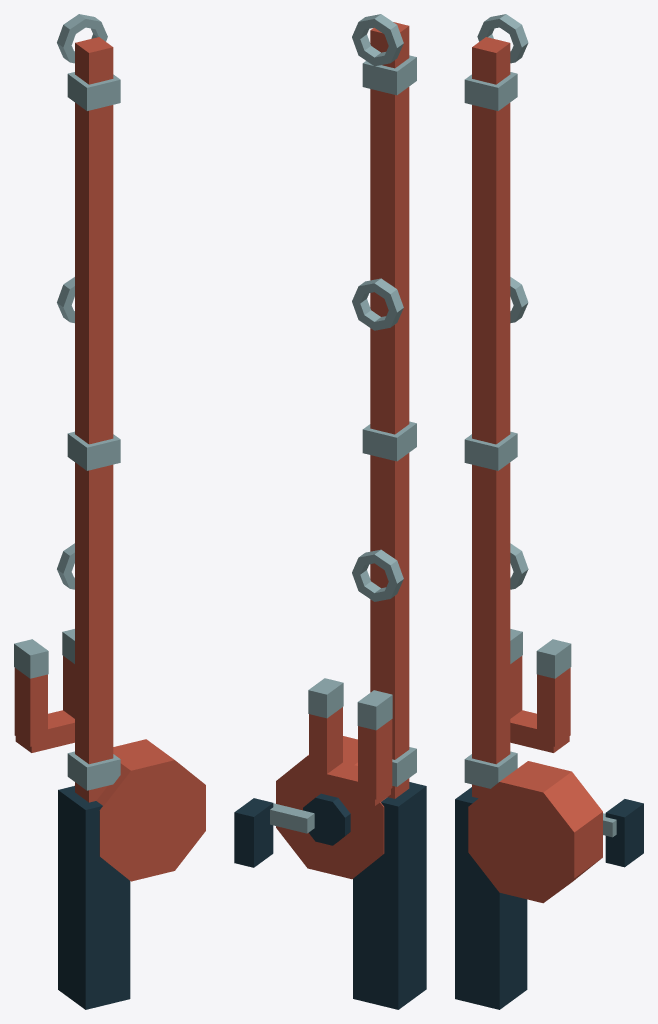
File: rod_magnet.gltf
3 views of the same model, side by side, from view 1: azimuth 30°, elevation 25°; view 2: azimuth 150°, elevation 25°; view 3: azimuth 330°, elevation 25° (orthographic).
Visible parts, largest first — view 1: rod_magnet; view 2: rod_magnet; view 3: rod_magnet.
Boxes of the visible parts, <box> form: rod_magnet: <box>14,14,205,1009</box>; rod_magnet: <box>234,14,426,1009</box>; rod_magnet: <box>455,14,643,1009</box>.
Bounding box in the file's own units: 0.2225 × 1.46 × 0.166.
